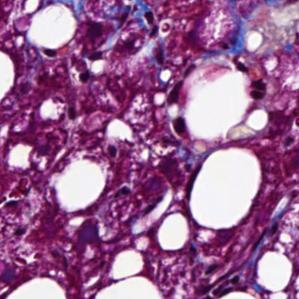inflammation: (73, 46, 109, 89), (166, 113, 191, 138), (247, 76, 269, 101)
